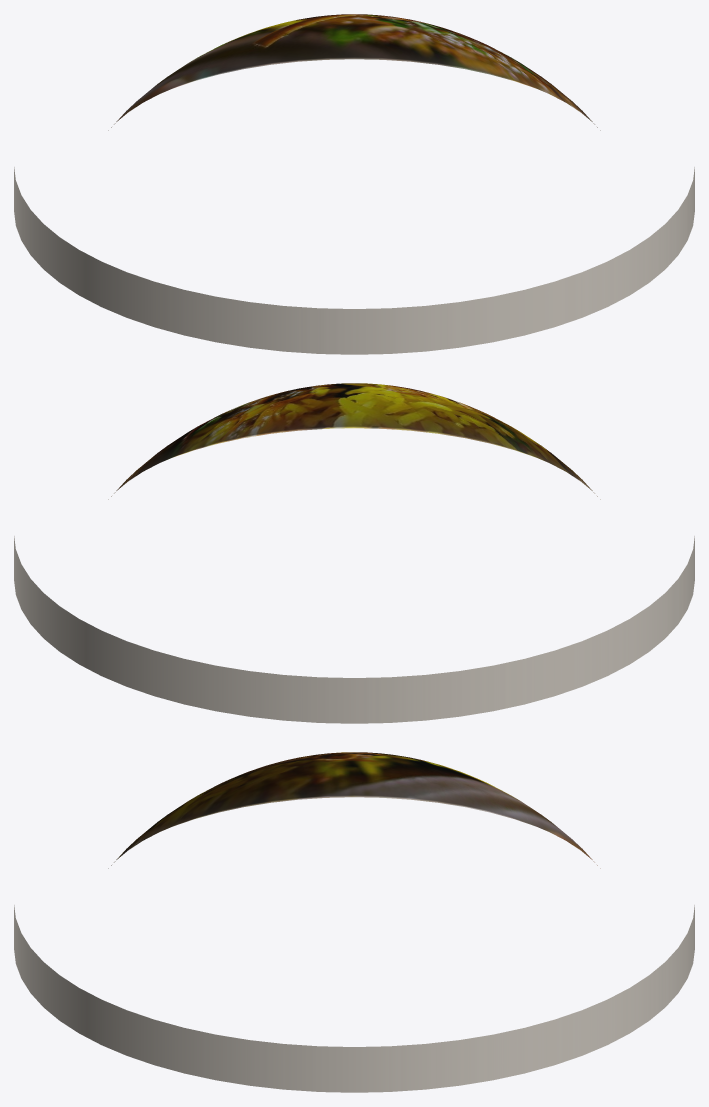
The model's file is mutton-pulao.glb.
The picture shows the model from 3 angles, top to bottom: view 1: azimuth 30°, elevation 25°; view 2: azimuth 150°, elevation 25°; view 3: azimuth 270°, elevation 25°; orthographic projection.
Parts seen in each view (by area): view 1: mutton-pulao; view 2: mutton-pulao; view 3: mutton-pulao.
Boxes of the visible parts, x1,y1,x2,y2 form: mutton-pulao: (14,14,694,354); mutton-pulao: (14,383,694,723); mutton-pulao: (14,752,694,1092).
Bounding box in the file's own units: 0.27 × 0.0745 × 0.27.
Materials: 1 (1 with a texture image).
